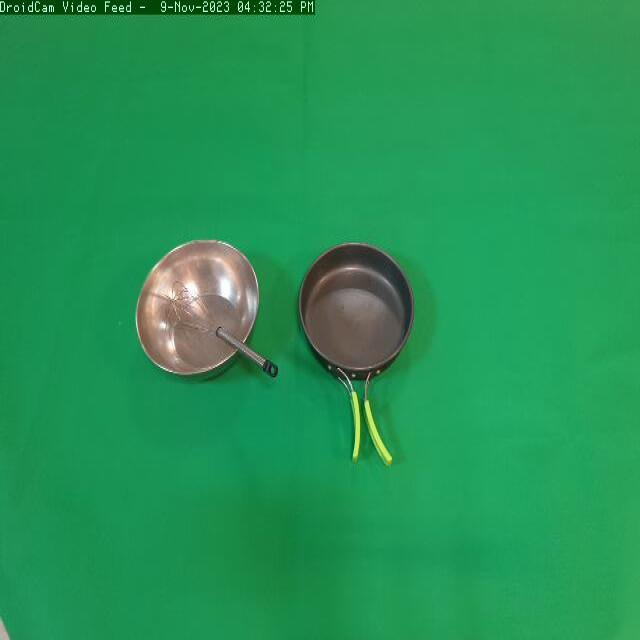bowl: (136, 236, 261, 380)
pan: (286, 236, 429, 472)
whisk: (156, 268, 286, 376)
